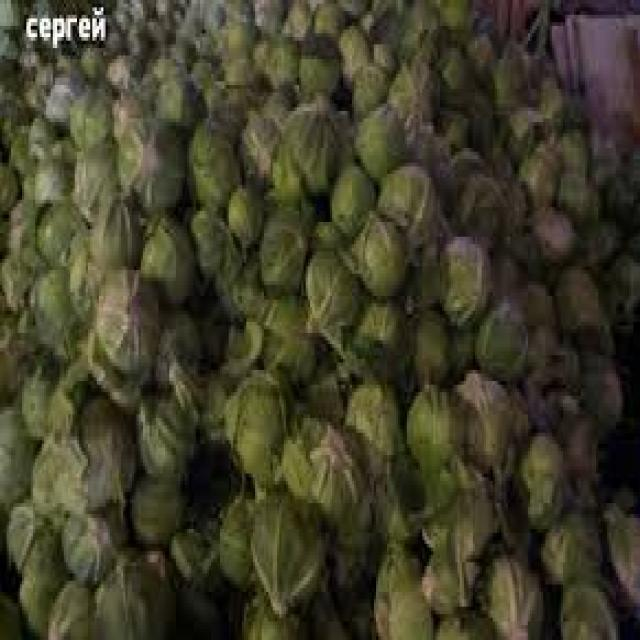choux de bruxelles: (4, 0, 639, 636)
